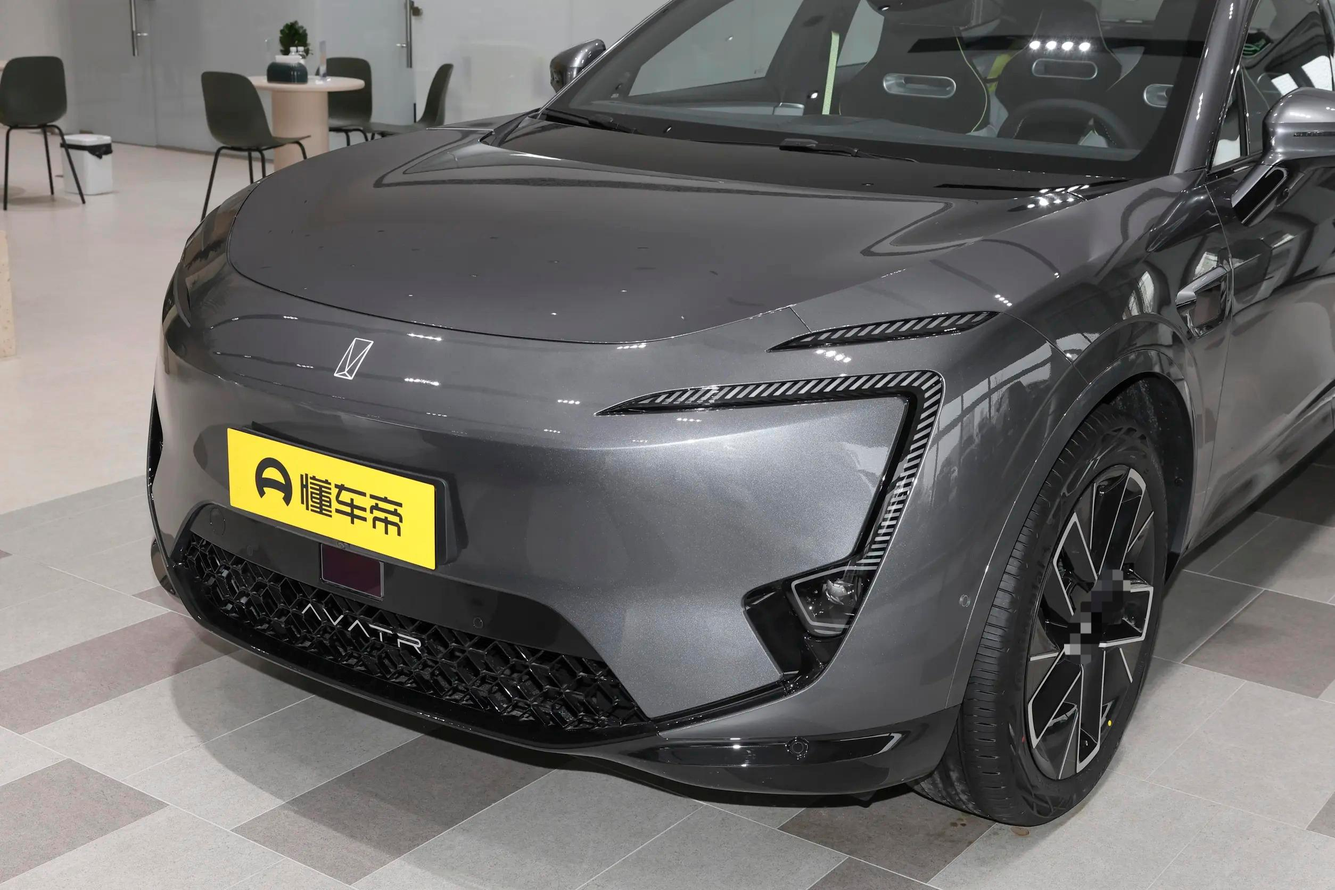AVATR: (334, 337, 373, 380)
